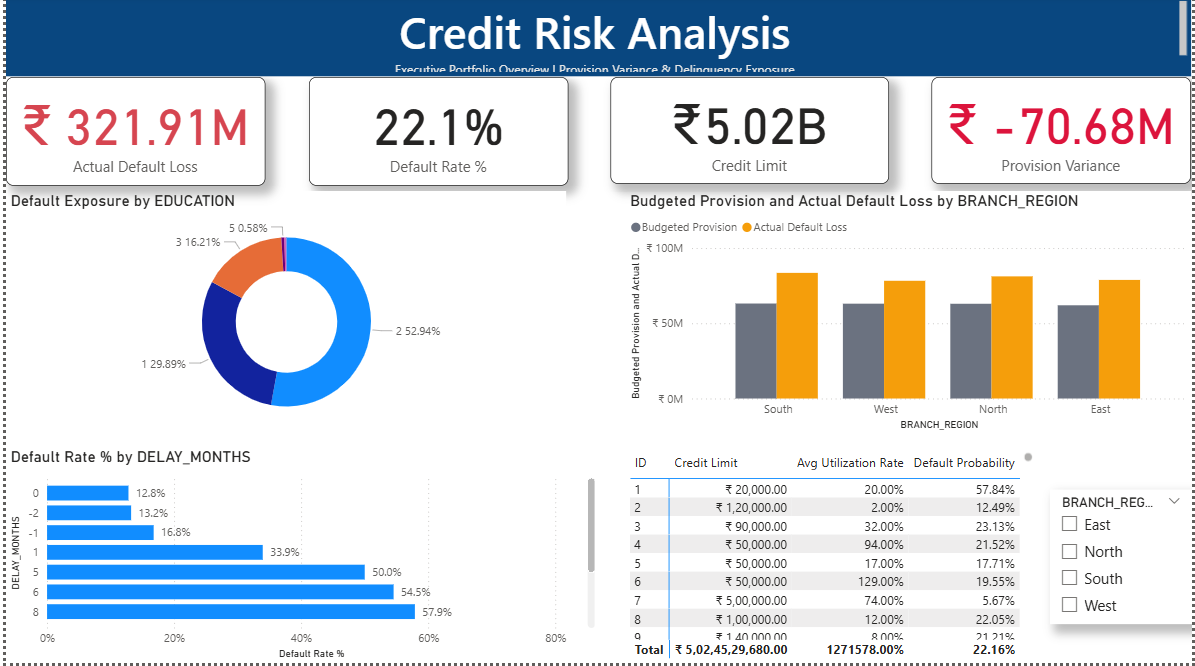

What the dashboard file says about the page in this screenshot:
{"tool":"powerbi","page":{"name":"Page 1","canvas":[1280,720],"ordinal":0},"visuals":[{"type":"card","fields":{"Values":["credit_card_processed_bi.Default Rate %"]},"box":[326.3,86.9,279.7,117.2],"z":0},{"type":"card","fields":{"Values":["credit_card_processed_bi.Provision Variance"]},"box":[999.7,86.9,279.7,115.3],"z":1000},{"type":"donutChart","fields":{"Category":["credit_card_processed_bi.EDUCATION"],"Y":["credit_card_processed_bi.Actual Default Loss"]},"box":[0,209.8,604.7,262.7],"z":2000},{"type":"clusteredBarChart","fields":{"Category":["credit_card_processed_bi.DELAY_MONTHS"],"Y":["credit_card_processed_bi.Default Rate %"]},"box":[0,487.6,640.6,232.4],"z":3000},{"type":"clusteredColumnChart","fields":{"Category":["credit_card_processed_bi.BRANCH_REGION"],"Y":["credit_card_processed_bi.Budgeted Provision","credit_card_processed_bi.Actual Default Loss"]},"box":[669,209.8,610.4,262.7],"z":4000},{"type":"pivotTable","fields":{"Rows":["credit_card_processed_bi.ID"],"Values":["Sum(credit_card_processed_bi.LIMIT_BAL)","Sum(credit_card_processed_bi.UTILIZATION_RATE)","Avg(credit_card_processed_bi.DEFAULT_PROBABILITY)"]},"box":[669,487.6,444.1,232.4],"z":5000},{"type":"textbox","box":[0,0,1279.4,86.9],"z":6000},{"type":"card","fields":{"Values":["credit_card_processed_bi.Actual Default Loss"]},"box":[0,86.9,279.7,117.2],"z":7000},{"type":"card","fields":{"Values":["credit_card_processed_bi.Total Credit Limit"]},"box":[652.6,86.9,300.5,115.3],"z":7001},{"type":"slicer","fields":{"Values":["credit_card_processed_bi.BRANCH_REGION"]},"box":[1126.3,532.9,153.1,145.5],"z":7002}]}

Visuals, with their boxes in screenshot pixels (x1, y1, x2, y2), scaled from the page's 1280x720 canvas onto the 1195x666 screenshot:
card - credit_card_processed_bi.Default Rate %: 305:80:566:189
card - credit_card_processed_bi.Provision Variance: 933:80:1194:187
donutChart - credit_card_processed_bi.EDUCATION x credit_card_processed_bi.Actual Default Loss: 0:194:565:437
clusteredBarChart - credit_card_processed_bi.DELAY_MONTHS x credit_card_processed_bi.Default Rate %: 0:451:598:665
clusteredColumnChart - credit_card_processed_bi.BRANCH_REGION x credit_card_processed_bi.Budgeted Provision: 625:194:1194:437
pivotTable - credit_card_processed_bi.ID x Sum(credit_card_processed_bi.LIMIT_BAL): 625:451:1039:665
textbox: 0:0:1194:80
card - credit_card_processed_bi.Actual Default Loss: 0:80:261:189
card - credit_card_processed_bi.Total Credit Limit: 609:80:890:187
slicer - credit_card_processed_bi.BRANCH_REGION: 1052:493:1194:628
